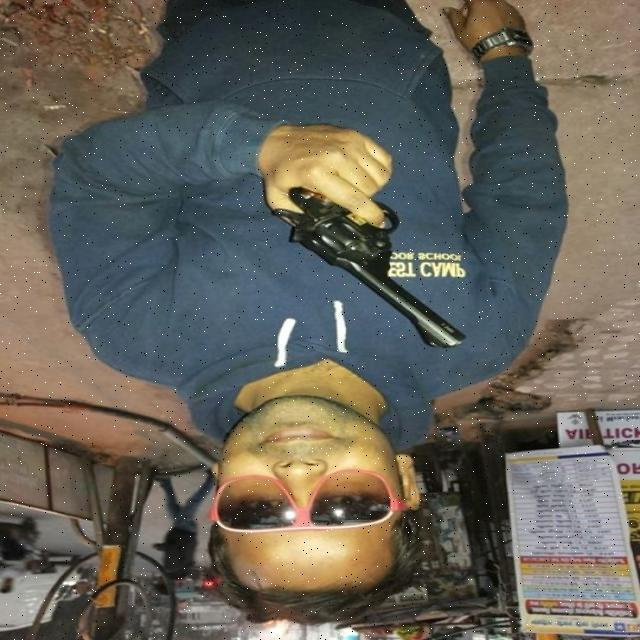gun: (257, 151, 486, 366)
